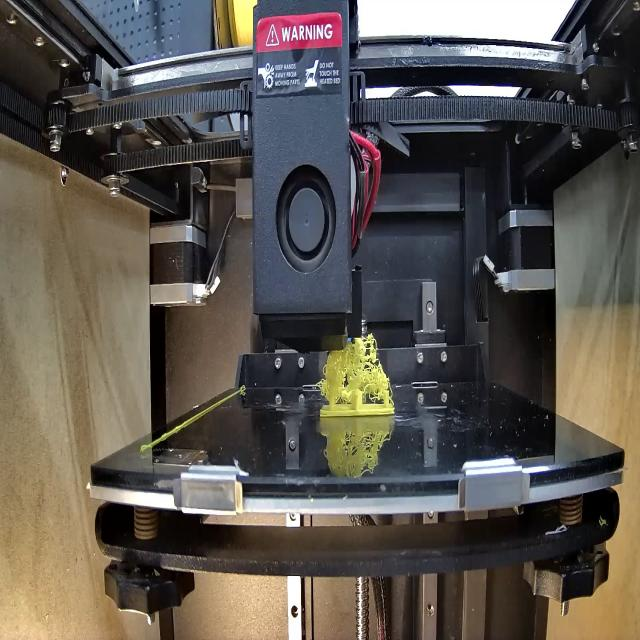spaghetti: (320, 336, 389, 396)
